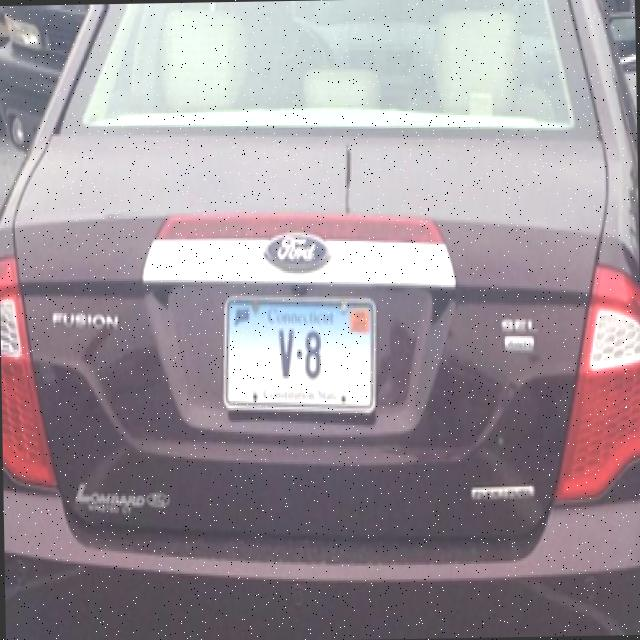Autre: (220, 296, 378, 412)
